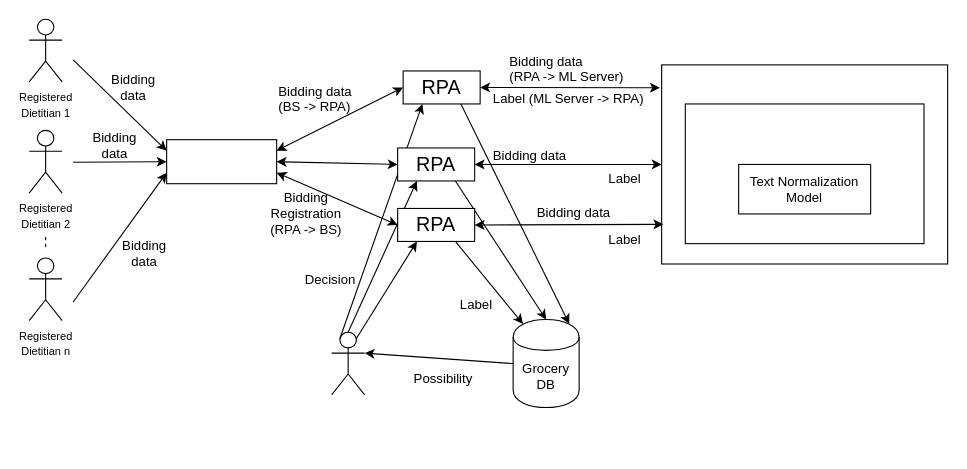
The diagram is 967 pixels wide and 469 high, and some of its shapes have lost their labels. Here are the shapes that lost their labels. From the top down, the box of each, then its label:
(166, 139, 277, 184): Bidding System
(684, 103, 924, 244): Machine Learning
(661, 64, 948, 264): Cloud Server
(331, 331, 365, 395): Grocery Provider
